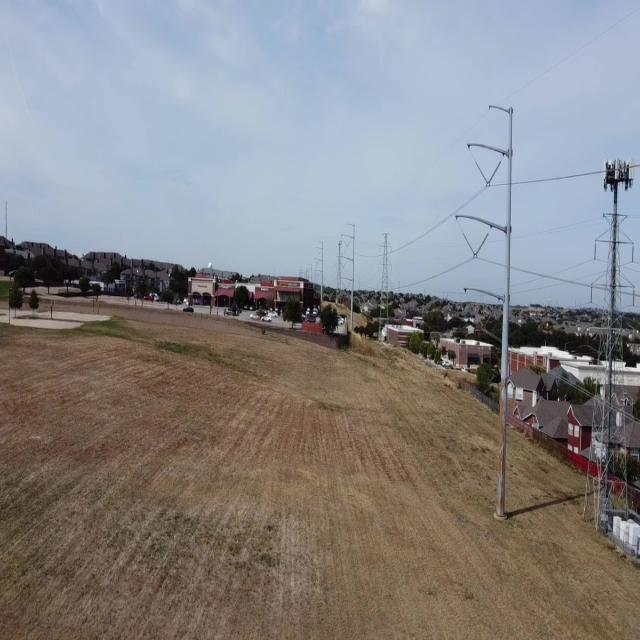杆塔: (578, 196, 639, 535), (375, 230, 396, 348), (334, 237, 344, 306)
正常绝缘子: (484, 156, 504, 193), (479, 301, 500, 335), (468, 298, 487, 334), (471, 229, 491, 263), (473, 155, 491, 189), (460, 228, 478, 261), (630, 241, 636, 264), (593, 238, 598, 263), (631, 286, 636, 308), (590, 284, 594, 306)
